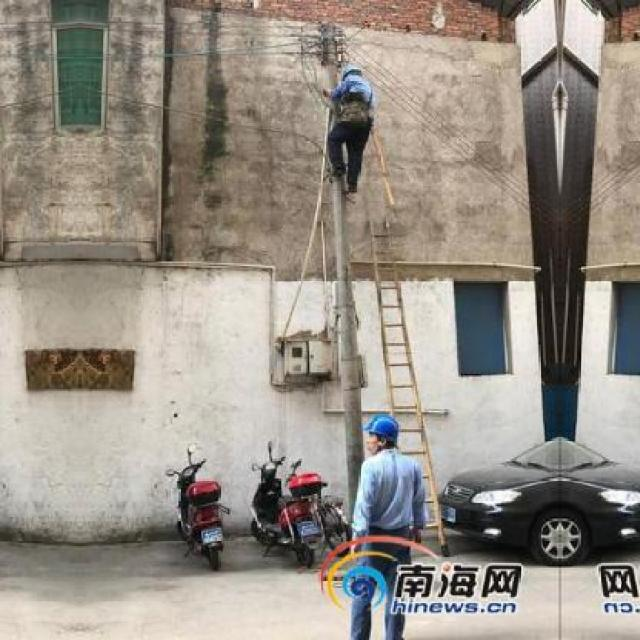helmet: (364, 410, 402, 455), (336, 65, 366, 83)
